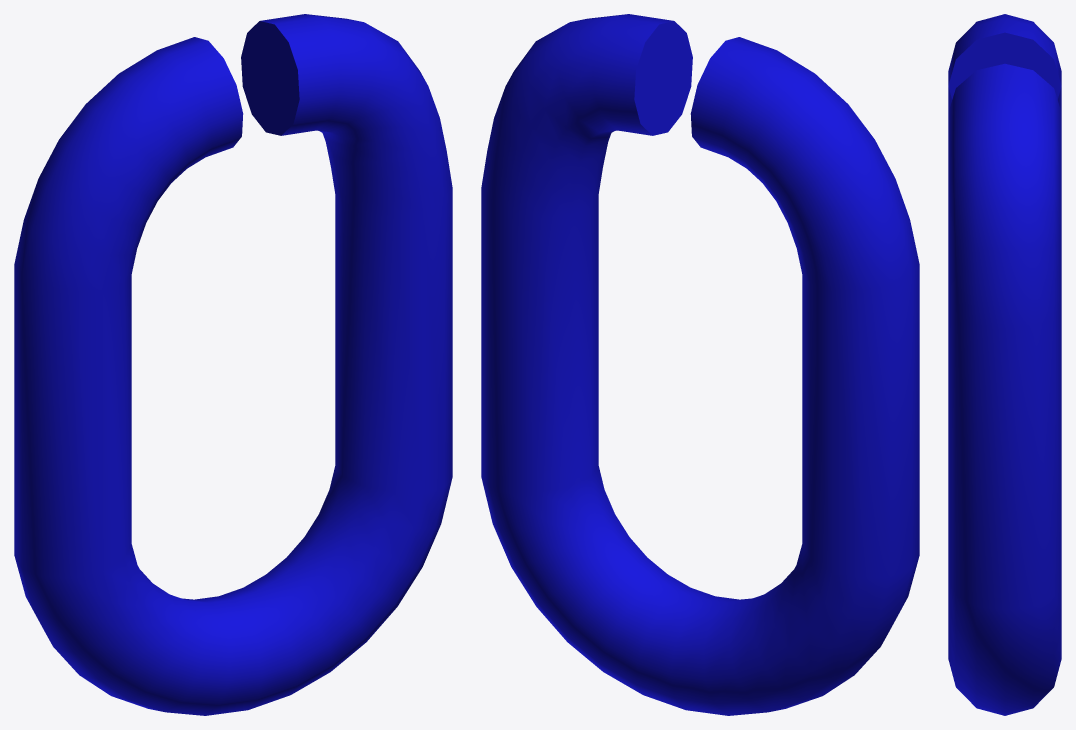
The model's file is NewSingle_Chain_Resize_Embedded.fbx.
3 renders of one model, left to right at view 1: azimuth 30°, elevation 25°; view 2: azimuth 150°, elevation 25°; view 3: azimuth 270°, elevation 25°, orthographic. The views are drawn at different scales.
Visible parts, largest first — view 1: chain single001; view 2: chain single001; view 3: chain single001.
Boxes of the visible parts, bbox=[...] form: chain single001: bbox=[14, 14, 452, 715]; chain single001: bbox=[481, 14, 919, 715]; chain single001: bbox=[948, 14, 1061, 715].
Size of the model in its own units: 18.1 by 27.52 by 4.35.
